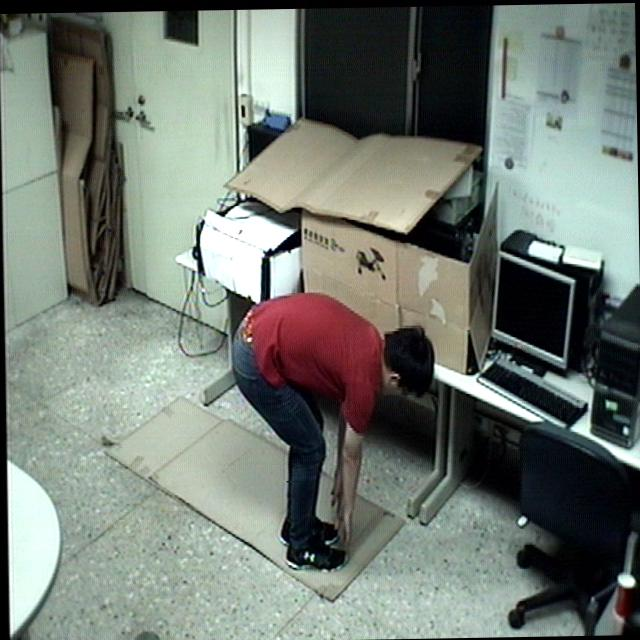bend: (221, 287, 438, 578)
